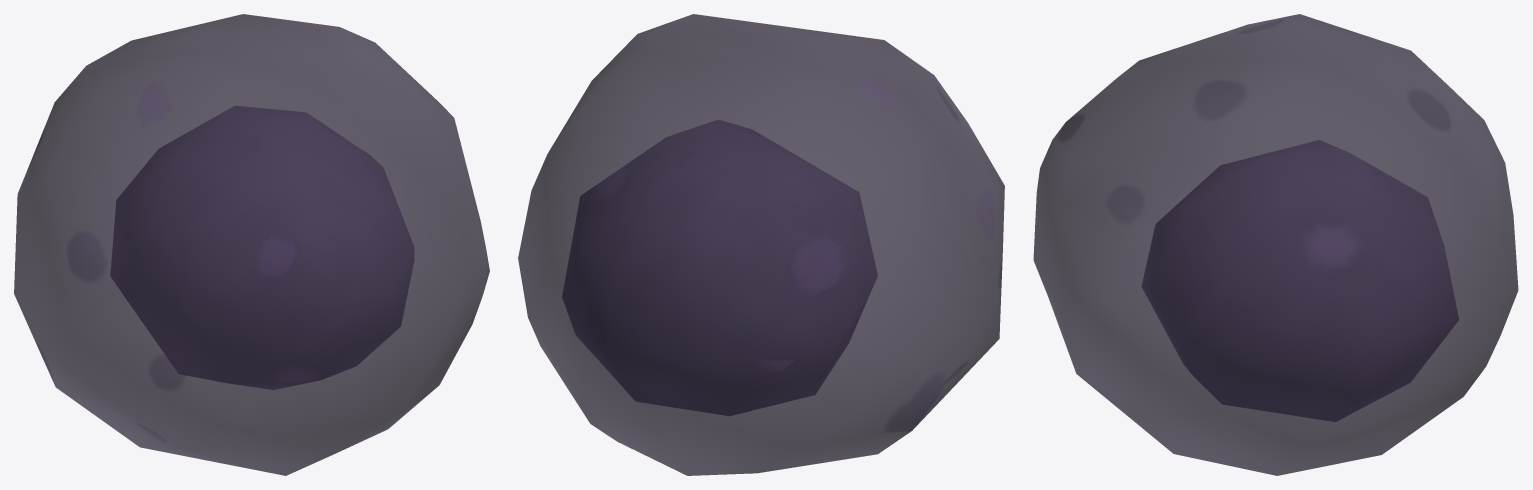
File: s1_cell_rupture_lod1.glb
The picture shows the model from 3 angles, left to right: view 1: azimuth 30°, elevation 25°; view 2: azimuth 150°, elevation 25°; view 3: azimuth 270°, elevation 25°; orthographic projection. The views are drawn at different scales.
Parts seen in each view (by area): view 1: membrane_lod1, nucleus_lod1; view 2: membrane_lod1, nucleus_lod1; view 3: membrane_lod1, nucleus_lod1.
Part boxes in pixels (x1,y1,x2,y2): membrane_lod1: [14, 14, 489, 475]; nucleus_lod1: [110, 106, 414, 389]; membrane_lod1: [518, 14, 1004, 475]; nucleus_lod1: [562, 120, 877, 415]; membrane_lod1: [1033, 14, 1518, 475]; nucleus_lod1: [1142, 140, 1458, 421].
Bounding box in the file's own units: 0.9866 × 0.9464 × 1.03.
Materials: 2 (2 with a texture image).
